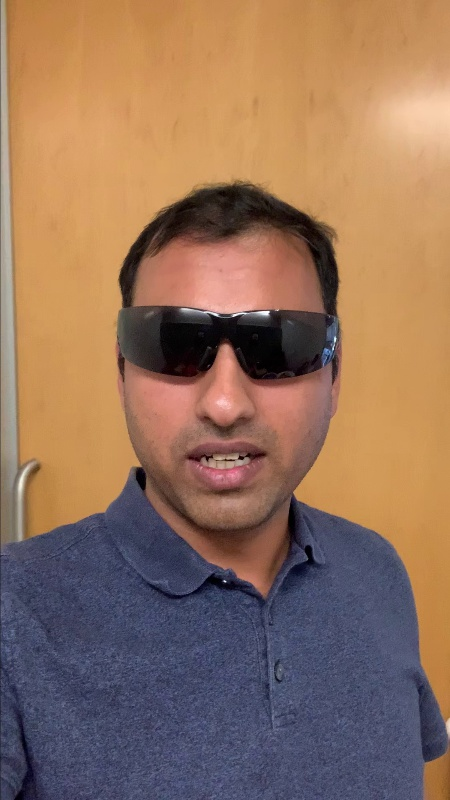glasses: (101, 297, 354, 388)
